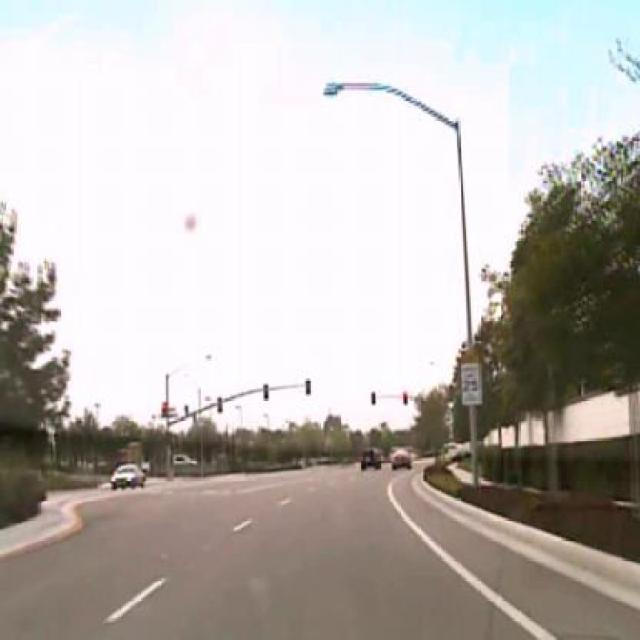schoolSpeedLimit25: (462, 351, 483, 406)
